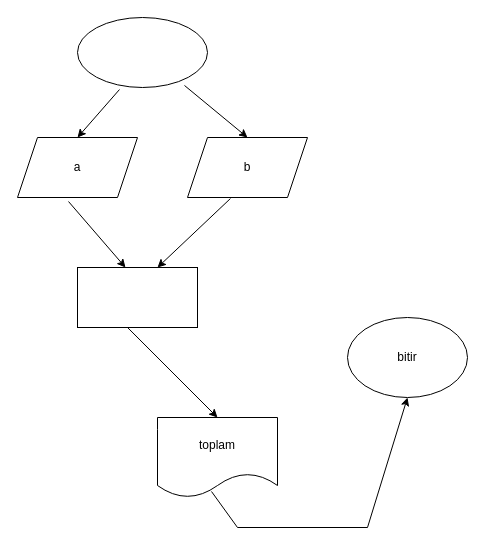
The diagram is 485 pixels wide and 553 high, and some of its shapes have lost their labels. Here are the shapes that lost their labels. From the top down, the box of each, then its label:
(76, 16, 208, 88): basla
(76, 266, 198, 328): toplam = a + b
